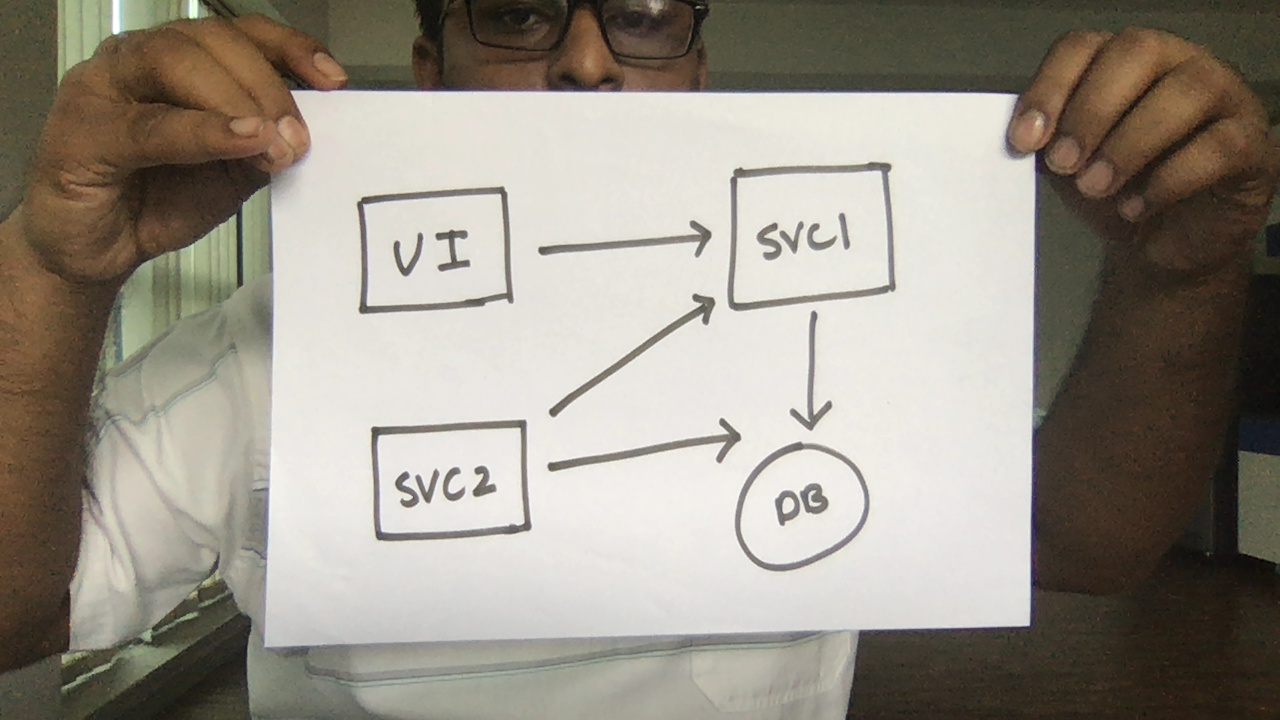arrow: (527, 287, 733, 426), (542, 414, 747, 499), (536, 219, 718, 277)
db: (727, 435, 884, 574)
ec2: (717, 151, 915, 314), (365, 418, 538, 545)
ui: (347, 179, 526, 321)
